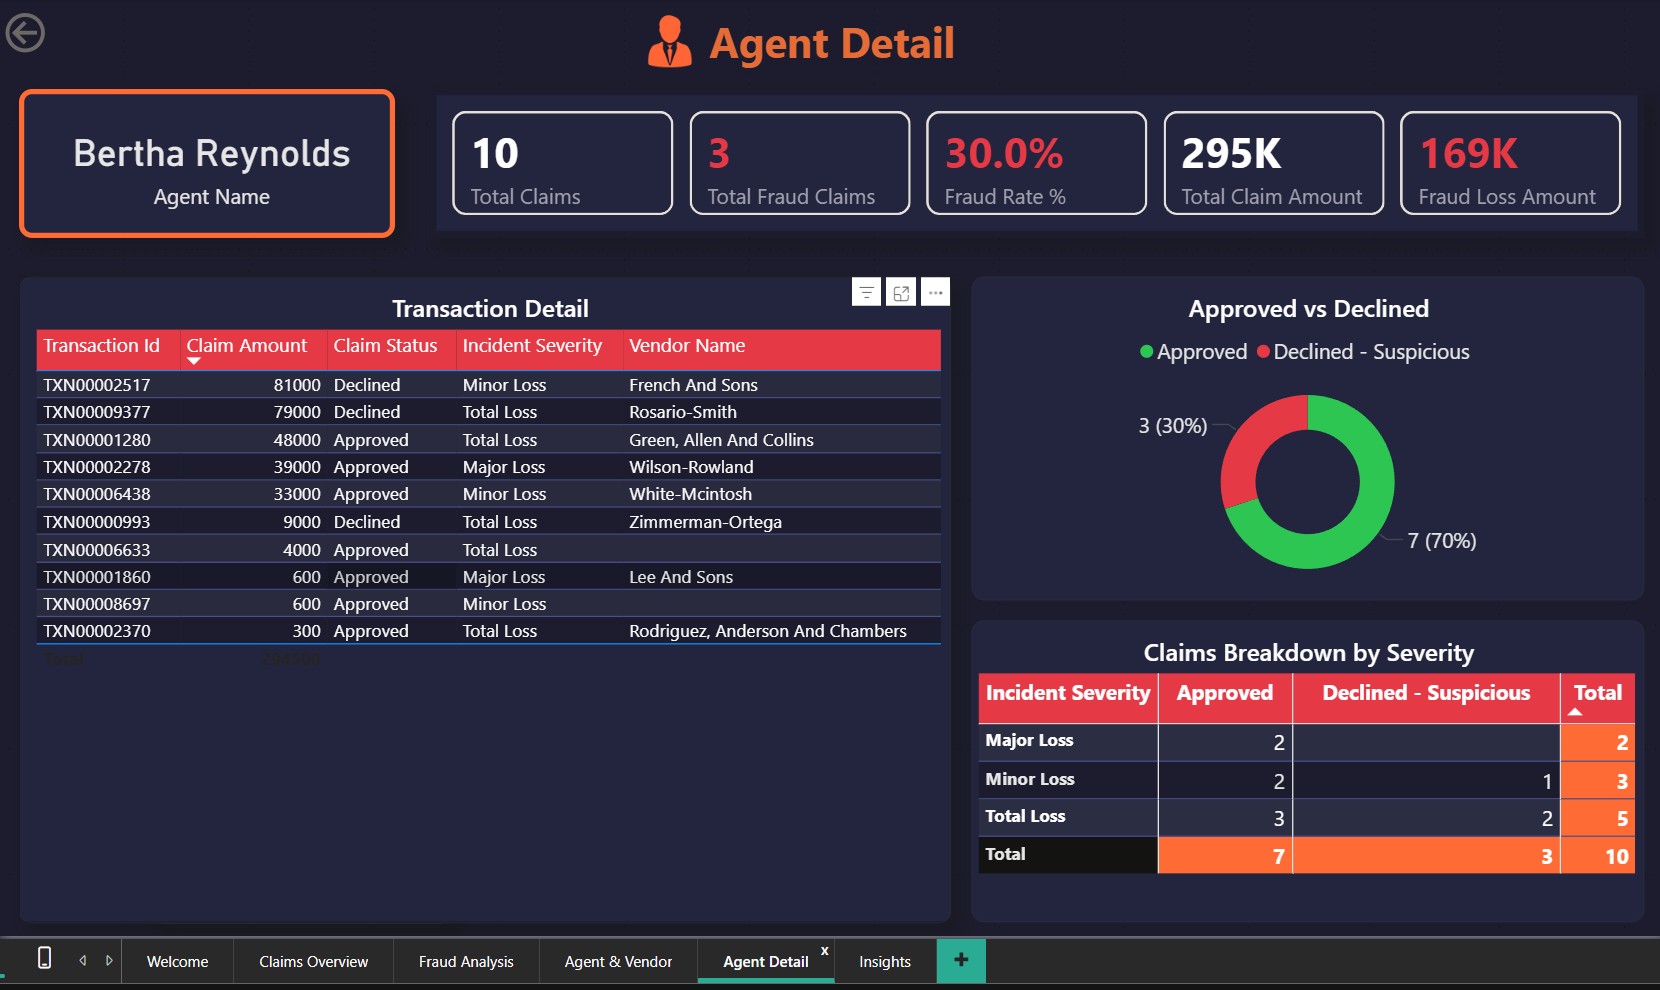

The page's visual inventory and layout, read from the dashboard file:
{"tool":"powerbi","page":{"name":"Agent Detail","canvas":[1280,720],"ordinal":4},"visuals":[{"type":"card","fields":{"Values":["FactClaims.Total Claim Amount"]},"box":[101.9,284.4,229.9,90.1],"z":0},{"type":"card","fields":{"Values":["FactClaims.Fraud Loss Amount"]},"box":[410.1,558.2,229.9,90.1],"z":1000},{"type":"actionButton","box":[0,6.2,52.6,40.3],"z":2000},{"type":"card","fields":{"Values":["Min(DimAgent.AGENT_NAME)"]},"box":[15.7,68.9,289,114.8],"z":3000},{"type":"card","fields":{"Values":["FactClaims.Total Claims"]},"box":[117.3,398.2,229.9,90.1],"z":4000},{"type":"card","fields":{"Values":["FactClaims.Total Fraud Claims"]},"box":[117.3,619.9,229.9,90.1],"z":5000},{"type":"card","fields":{"Values":["FactClaims.Agent Fraud Rate"]},"box":[117.3,513.2,229.9,90.1],"z":6000},{"type":"tableEx","title":"Transaction Detail","fields":{"Values":["FactClaims.TRANSACTION_ID","Sum(FactClaims.CLAIM_AMOUNT)","FactClaims.Claim Status ","FactClaims.INCIDENT_SEVERITY","DimVendor.VENDOR_NAME"]},"box":[15.7,212.9,715.8,496.7],"z":7000},{"type":"donutChart","title":"Approved vs Declined","fields":{"Y":["FactClaims.Total Claims"],"Category":["FactClaims.Fraud_Label"]},"box":[747.4,212.6,517.2,248.8],"z":8000},{"type":"textbox","box":[40.3,6.2,1199.5,53.7],"z":9000},{"type":"cardVisual","fields":{"Data":["FactClaims.Total Claims","FactClaims.Total Fraud Claims","FactClaims.Fraud Rate %","FactClaims.Total Claim Amount","FactClaims.Fraud Loss Amount"]},"box":[331.4,69.2,933.2,114.6],"z":10000},{"type":"pivotTable","title":"Claims Breakdown by Severity","fields":{"Rows":["FactClaims.INCIDENT_SEVERITY"],"Columns":["FactClaims.Fraud_Label"],"Values":["FactClaims.Total Claims"]},"box":[747.4,476.9,517.2,232.3],"z":11000},{"type":"image","box":[483.1,12.4,65,40.3],"z":12000}]}

Visuals, with their boxes on the page's 1280x720 design canvas (x1, y1, x2, y2). These are canvas units, not pixel positions in the 1660x990 screenshot, which may show the page scaled, cropped or inside an application window:
card - FactClaims.Total Claim Amount: bbox=[102, 284, 332, 374]
card - FactClaims.Fraud Loss Amount: bbox=[410, 558, 640, 648]
actionButton: bbox=[0, 6, 53, 46]
card - Min(DimAgent.AGENT_NAME): bbox=[16, 69, 305, 184]
card - FactClaims.Total Claims: bbox=[117, 398, 347, 488]
card - FactClaims.Total Fraud Claims: bbox=[117, 620, 347, 710]
card - FactClaims.Agent Fraud Rate: bbox=[117, 513, 347, 603]
"Transaction Detail" tableEx: bbox=[16, 213, 732, 710]
"Approved vs Declined" donutChart: bbox=[747, 213, 1265, 461]
textbox: bbox=[40, 6, 1240, 60]
cardVisual - FactClaims.Total Claims x FactClaims.Total Fraud Claims: bbox=[331, 69, 1265, 184]
"Claims Breakdown by Severity" pivotTable: bbox=[747, 477, 1265, 709]
image: bbox=[483, 12, 548, 53]
